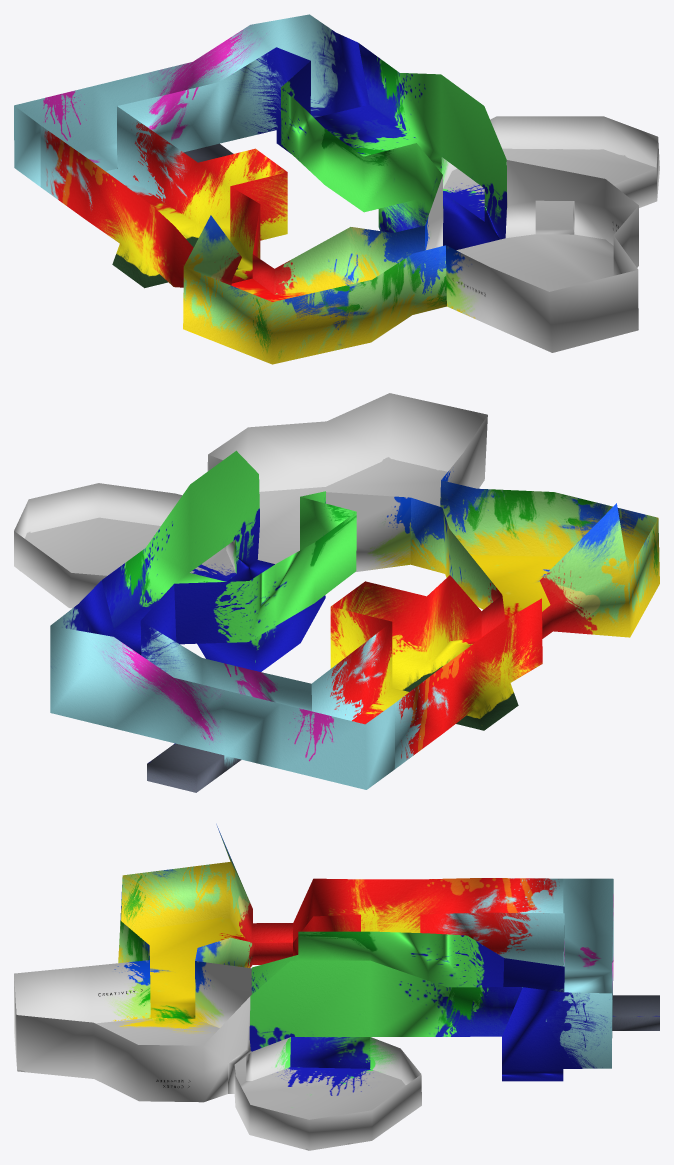
Rendered from FloorCollider.fbx.
The picture shows the model from 3 angles, top to bottom: view 1: azimuth 30°, elevation 25°; view 2: azimuth 150°, elevation 25°; view 3: azimuth 270°, elevation 25°; orthographic projection. The views are drawn at different scales.
Visible parts, largest first — view 1: FloorCollider; view 2: FloorCollider; view 3: FloorCollider.
Part boxes in pixels (x1,y1,x2,y2): FloorCollider: (14,14,659,364); FloorCollider: (14,393,659,792); FloorCollider: (14,824,659,1150).
Size of the model in its own units: 34.92 by 11.08 by 40.72.
